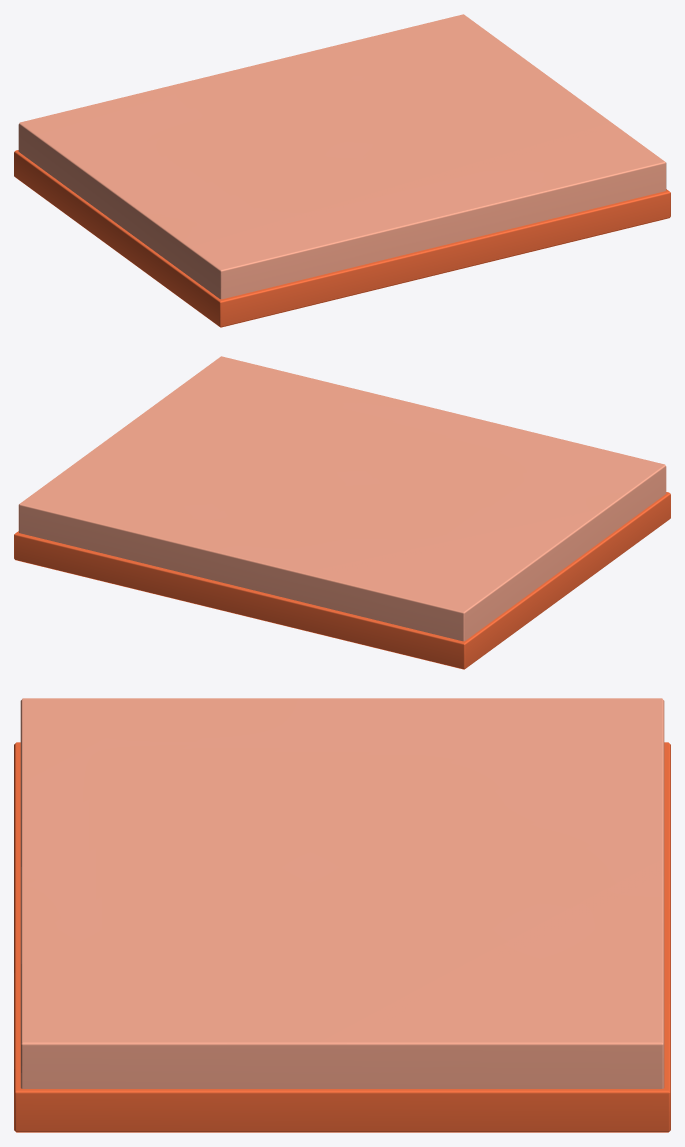
The model's file is Store_11_Base_1.glb.
3 renders of one model, top to bottom at view 1: azimuth 30°, elevation 25°; view 2: azimuth 150°, elevation 25°; view 3: azimuth 270°, elevation 25°, orthographic. The views are drawn at different scales.
Visible parts, largest first — view 1: Store_11_Base_1; view 2: Store_11_Base_1; view 3: Store_11_Base_1.
Boxes of the visible parts, x1,y1,x2,y2 form: Store_11_Base_1: [14, 14, 670, 327]; Store_11_Base_1: [14, 356, 670, 669]; Store_11_Base_1: [14, 698, 670, 1132].
Size of the model in its own units: 13.71 by 1.62 by 10.88.
1 material, 1 textured.
